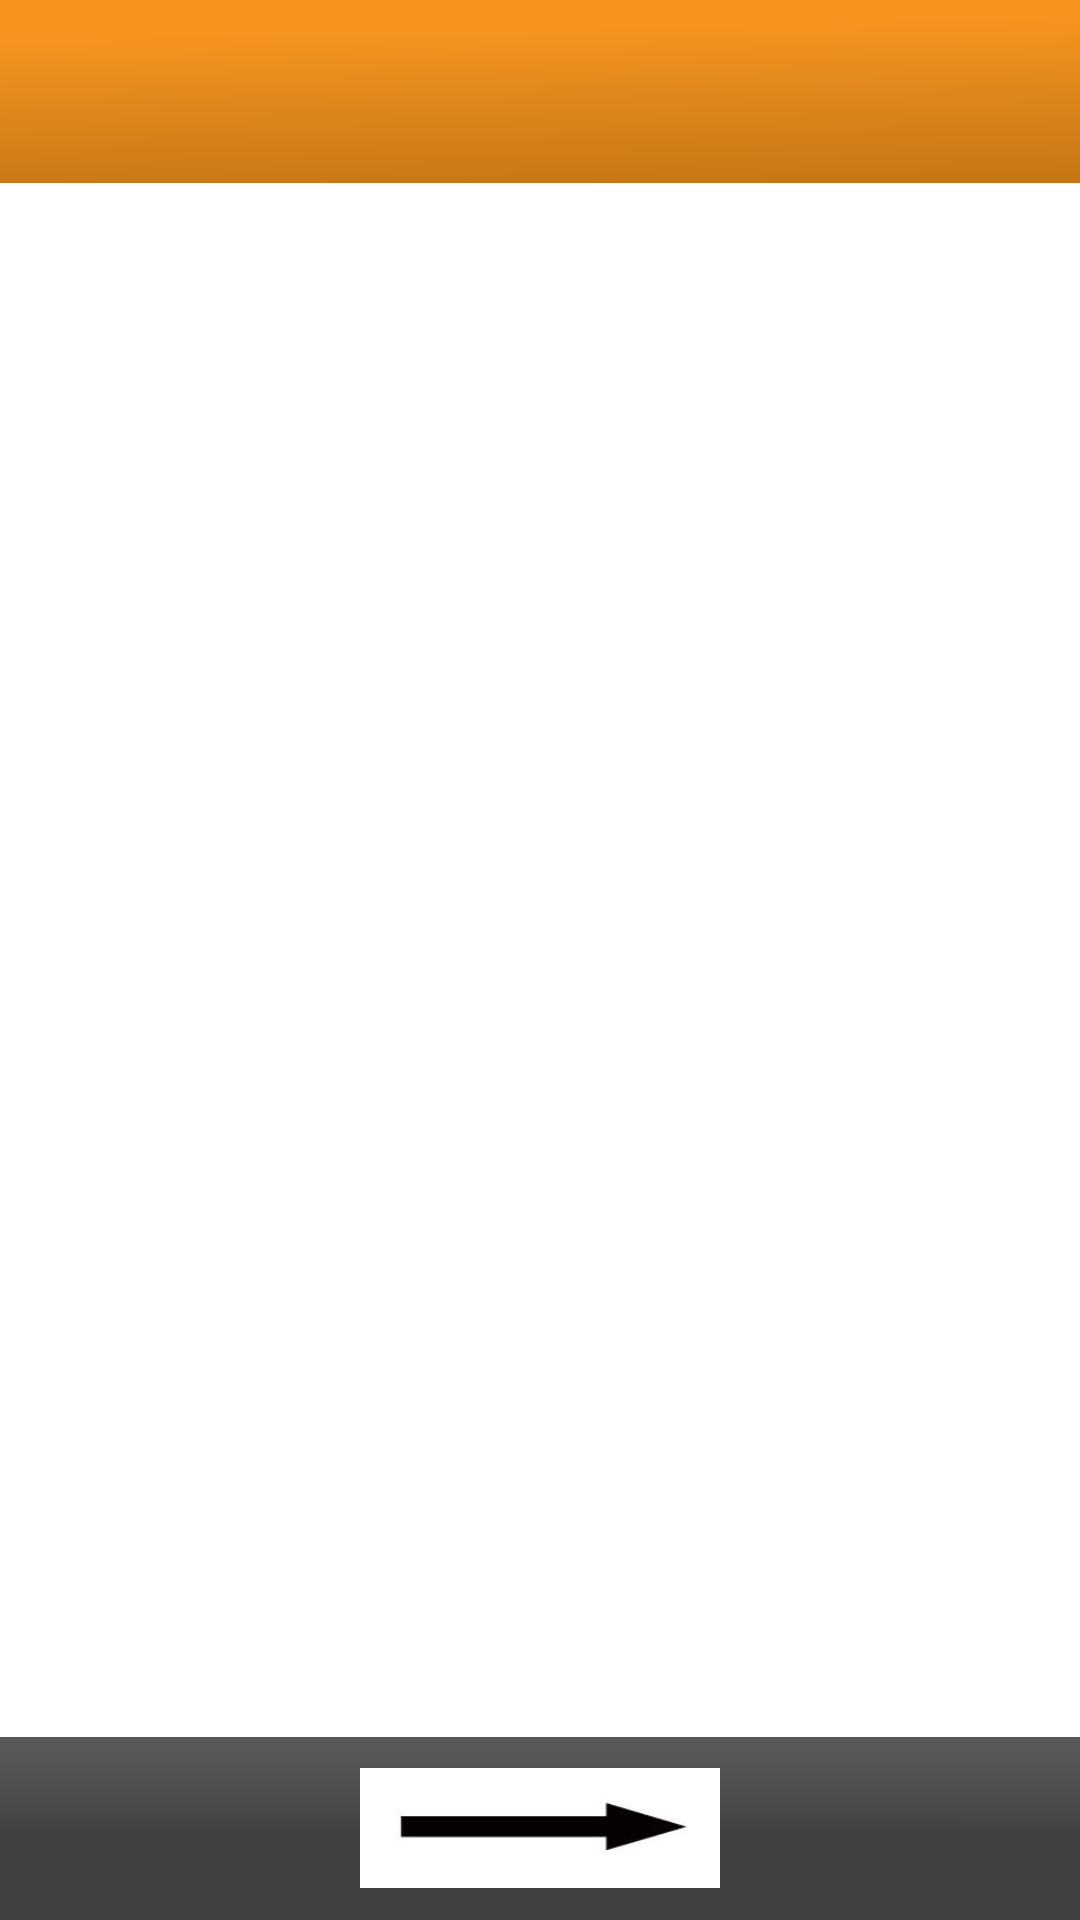

Where icons sit on this 1080 × 1920 app screen, as (x1, y1, x2, y2):
arrow: (360, 1768, 720, 1888)
